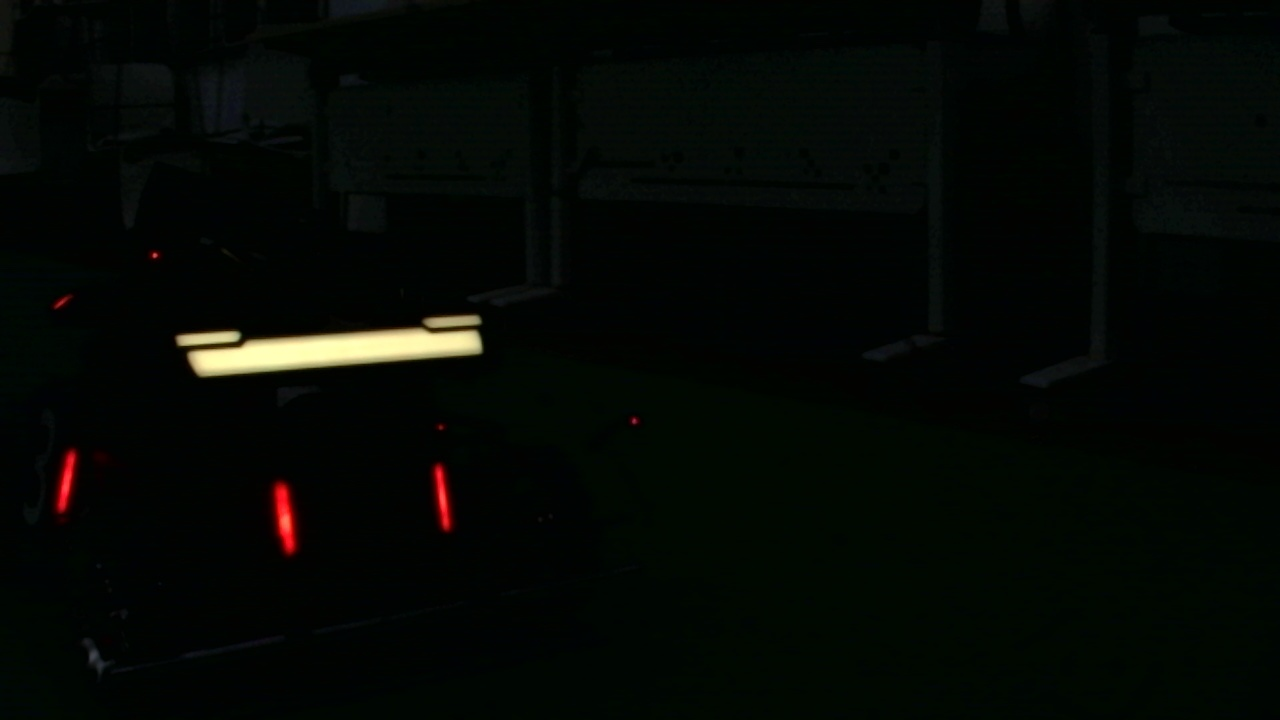lamp: (268, 480, 296, 557), (54, 436, 76, 515), (429, 460, 453, 526)
notpair1: (54, 438, 300, 560)
pair1: (274, 457, 450, 554)
